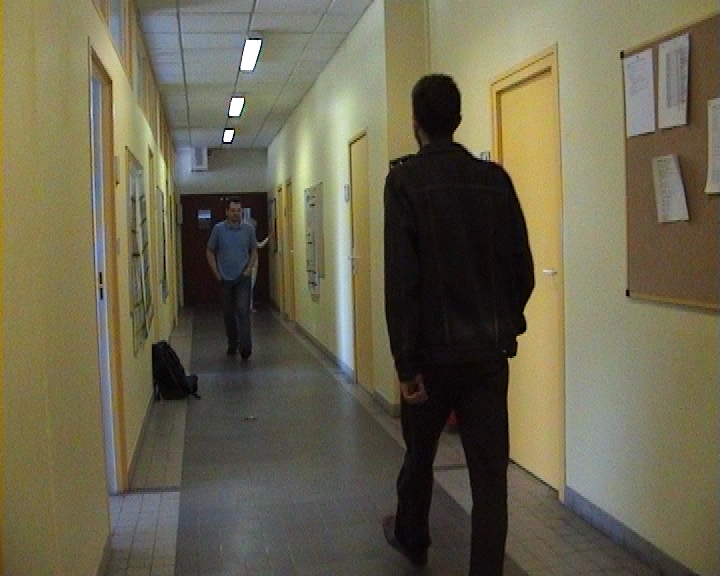leave bag unattended: (132, 315, 218, 421)
